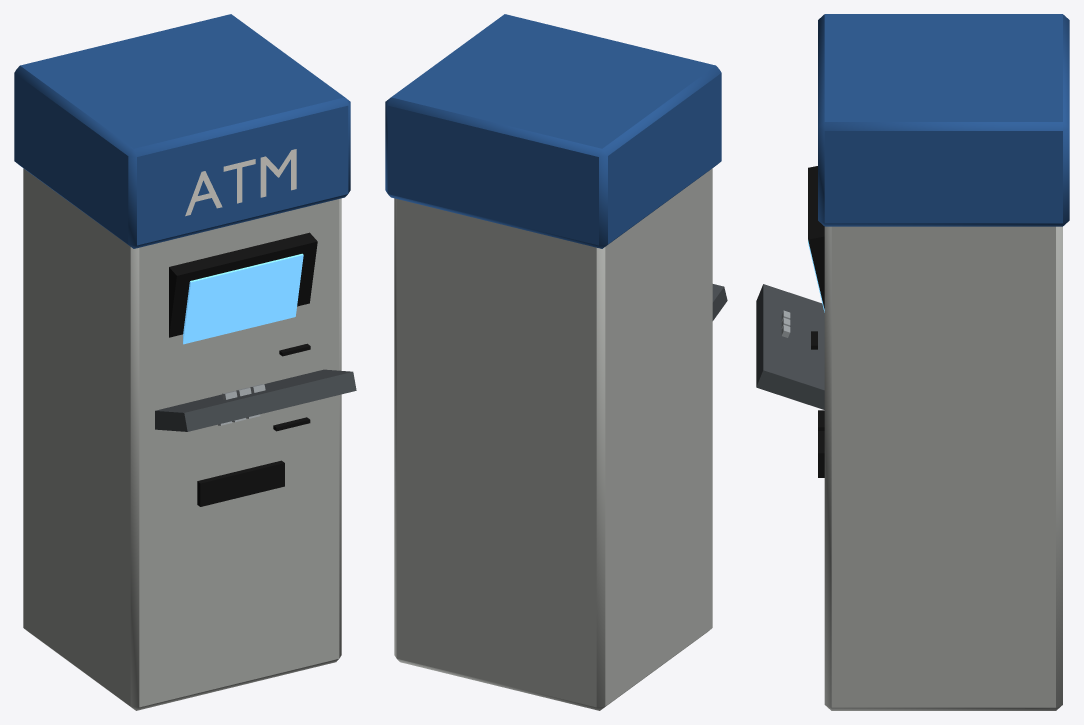
File: atm_machine.glb
3 renders of one model, left to right at view 1: azimuth 30°, elevation 25°; view 2: azimuth 150°, elevation 25°; view 3: azimuth 270°, elevation 25°, orthographic. The views are drawn at different scales.
Parts seen in each view (by area): view 1: ATM, ATMScreen; view 2: ATM; view 3: ATM.
Part boxes in pixels (left/top/right/bottom): ATM: left=14, top=14, right=356, bottom=710; ATMScreen: left=183, top=253, right=303, bottom=344; ATM: left=385, top=14, right=727, bottom=710; ATM: left=756, top=14, right=1069, bottom=710.
Bounding box in the file's own units: 0.79 × 1.92 × 0.9212.
